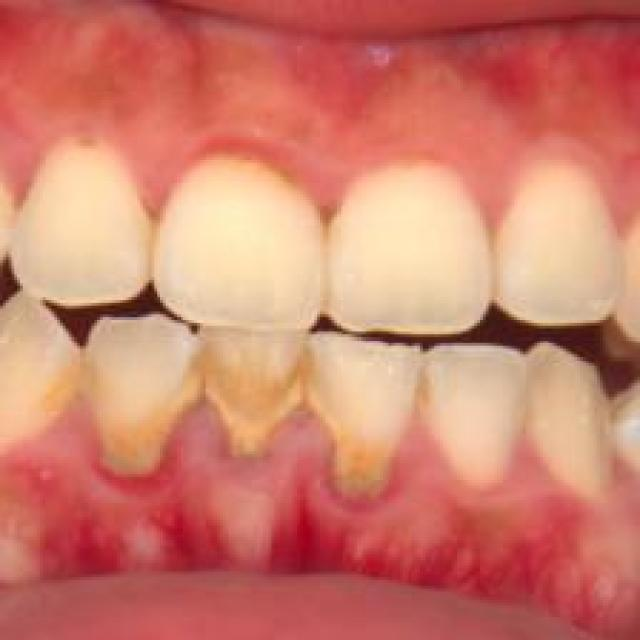cavity: (197, 352, 303, 452), (91, 400, 160, 469), (326, 437, 388, 500), (311, 200, 340, 251), (57, 366, 92, 403)
